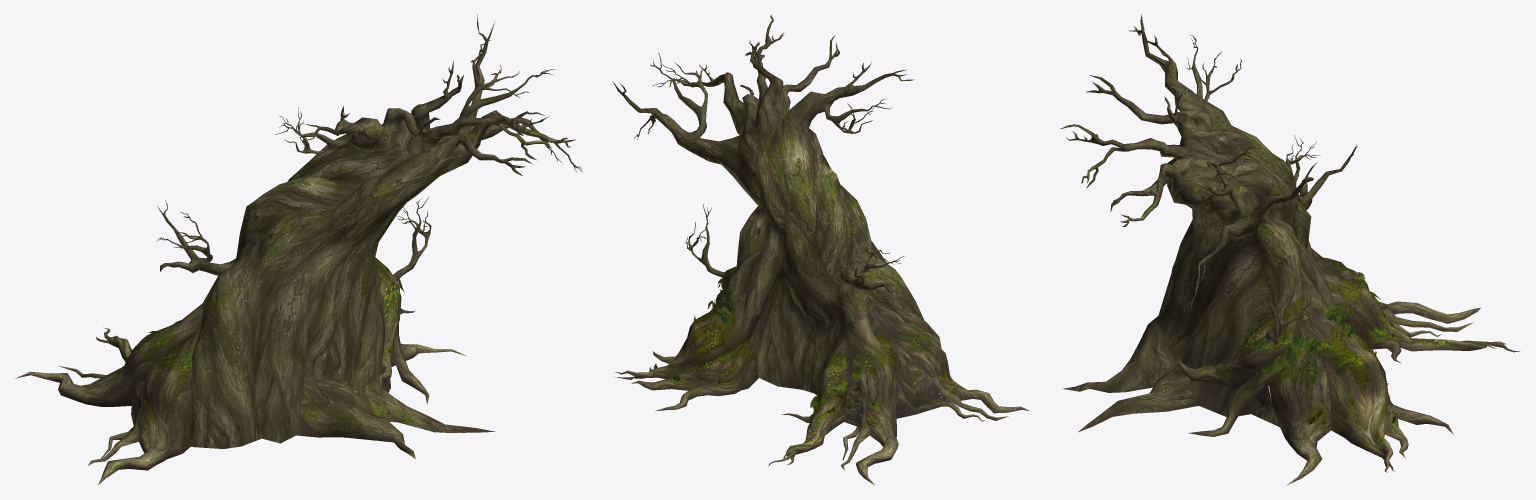
File: S_Tree_Green144.FBX
3 renders of one model, left to right at view 1: azimuth 30°, elevation 25°; view 2: azimuth 150°, elevation 25°; view 3: azimuth 270°, elevation 25°, orthographic. The views are drawn at different scales.
Visible parts, largest first — view 1: S_Tree_Green144; view 2: S_Tree_Green144; view 3: S_Tree_Green144.
Boxes of the visible parts, <box> form: S_Tree_Green144: <box>15,14,582,484</box>; S_Tree_Green144: <box>612,14,1029,485</box>; S_Tree_Green144: <box>1060,14,1520,485</box>.
Bounding box in the file's own units: 727 × 513 × 587.
